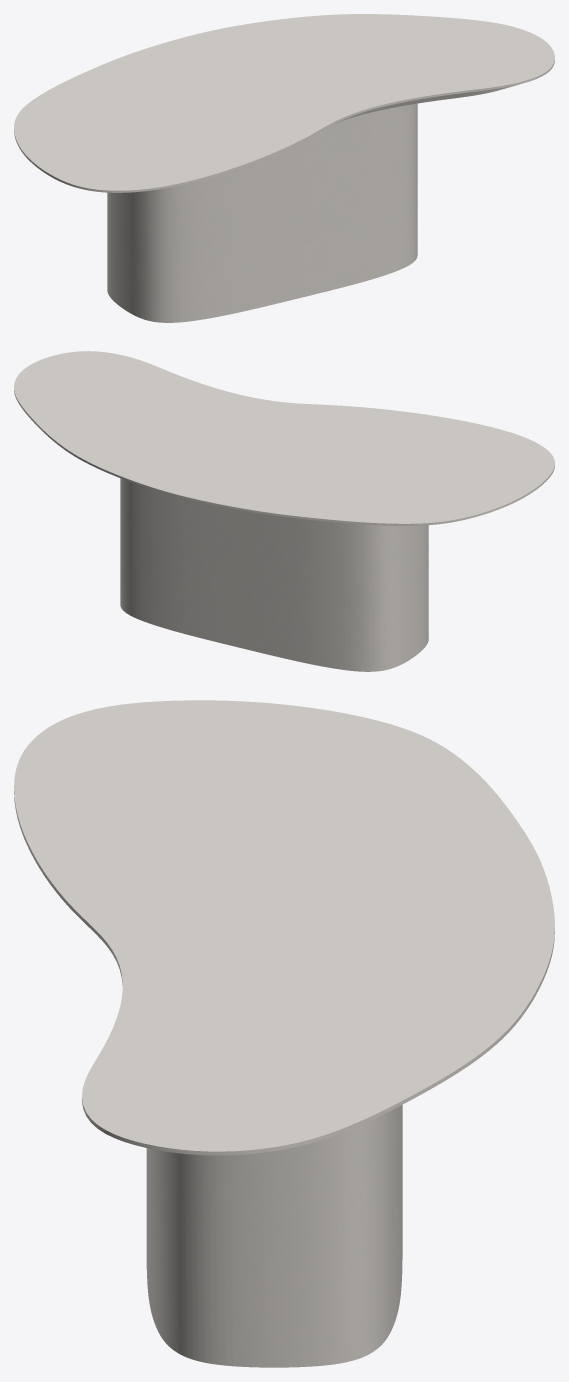
The model's file is pearlwhite_leaf1_facet_fixed.glb.
3 renders of one model, top to bottom at view 1: azimuth 30°, elevation 25°; view 2: azimuth 150°, elevation 25°; view 3: azimuth 270°, elevation 25°, orthographic. The views are drawn at different scales.
Parts seen in each view (by area): view 1: facet_leaf1, fixed; view 2: facet_leaf1, fixed; view 3: facet_leaf1, fixed.
Part boxes in pixels (bbox=[...]): facet_leaf1: bbox=[14, 14, 554, 192]; fixed: bbox=[107, 103, 417, 322]; facet_leaf1: bbox=[14, 351, 554, 525]; fixed: bbox=[120, 478, 428, 671]; facet_leaf1: bbox=[14, 700, 554, 1155]; fixed: bbox=[146, 1105, 402, 1367].
Bounding box in the file's own units: 7.5 × 2.53 × 3.8.
1 material, 1 textured.
